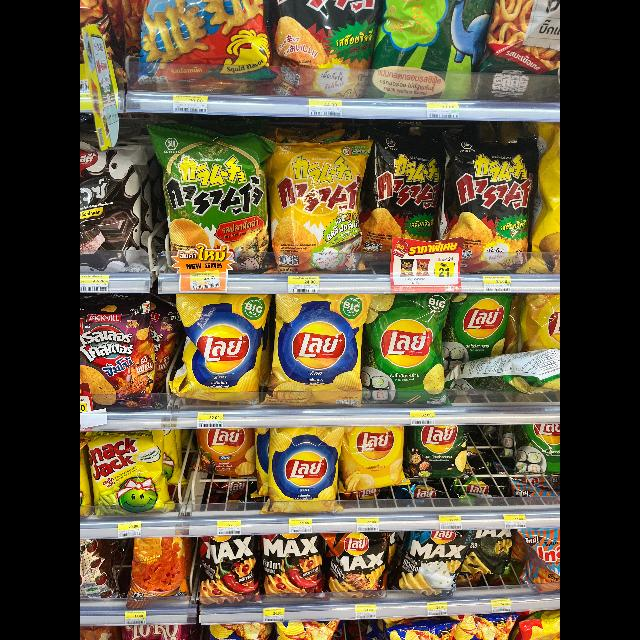snack_bag: (154, 124, 274, 266), (265, 130, 365, 270), (264, 1, 400, 98), (135, 1, 279, 88), (448, 130, 536, 270), (368, 1, 488, 98), (168, 286, 268, 400), (358, 299, 458, 401), (371, 137, 444, 275), (276, 288, 364, 402), (80, 297, 170, 403), (80, 140, 154, 268), (80, 428, 178, 524), (268, 418, 346, 512), (482, 0, 560, 92), (436, 288, 516, 368), (192, 534, 272, 610), (121, 532, 202, 604), (324, 522, 396, 600), (342, 427, 416, 498), (258, 530, 328, 604), (404, 422, 478, 492), (510, 286, 560, 388), (398, 532, 469, 596), (195, 410, 255, 484), (514, 426, 560, 486), (522, 526, 560, 586)
